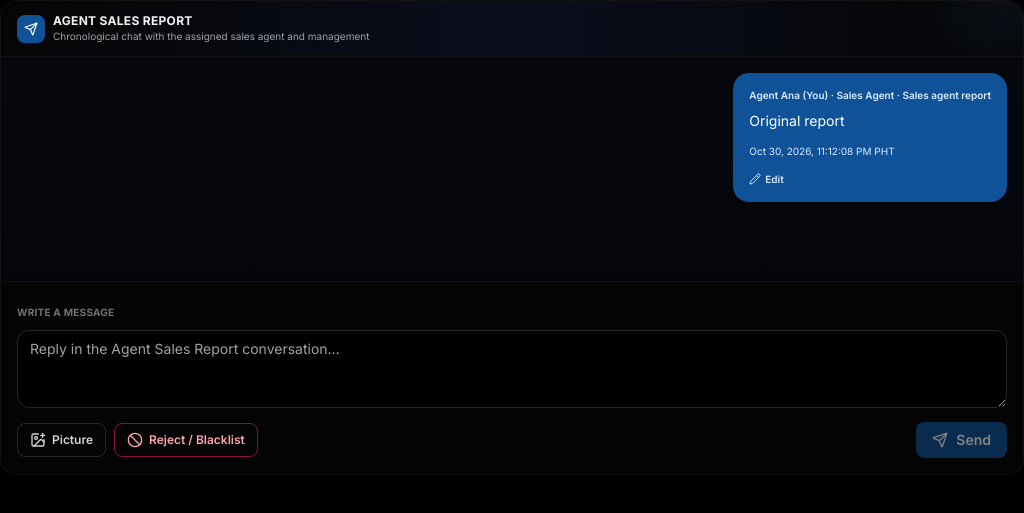
Test: CustomerSalesReportChat › lets a sales agent edit their own message within 24 hours
This screenshot has width=1024, height=513.
expect the text "Original report" is shown: met, box [749, 112, 844, 129]
Click the button with aria-label "Edit message".
click(767, 179)  # box [749, 169, 784, 189]
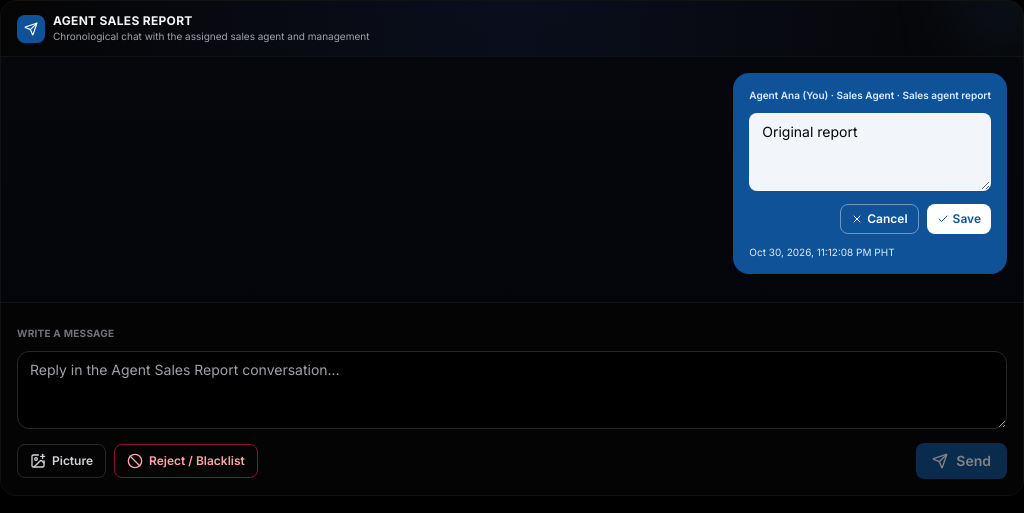
Replace the text in the text box named "Edit message" with "Corrected report" at (870, 152), box [749, 113, 991, 191]
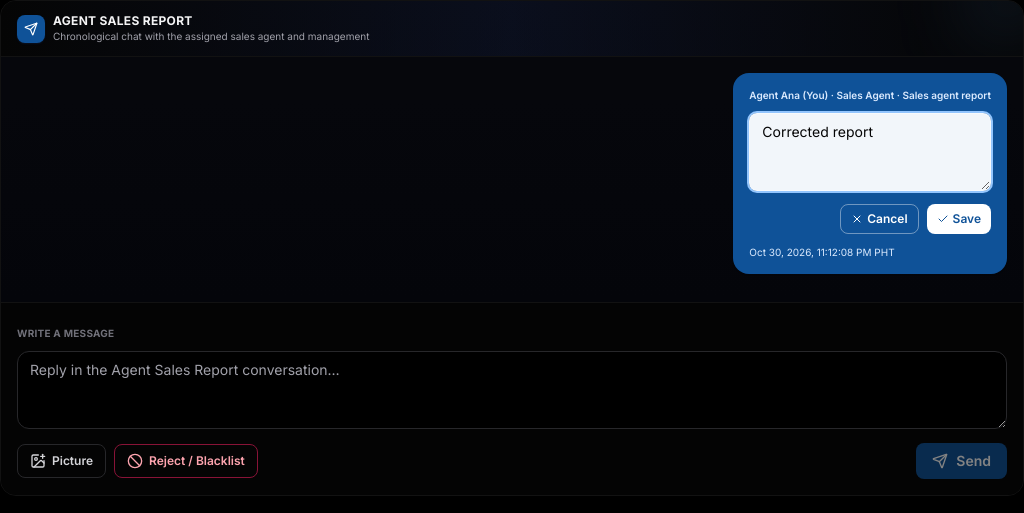
Click the button "Save".
click(959, 219)  # box [927, 204, 991, 234]
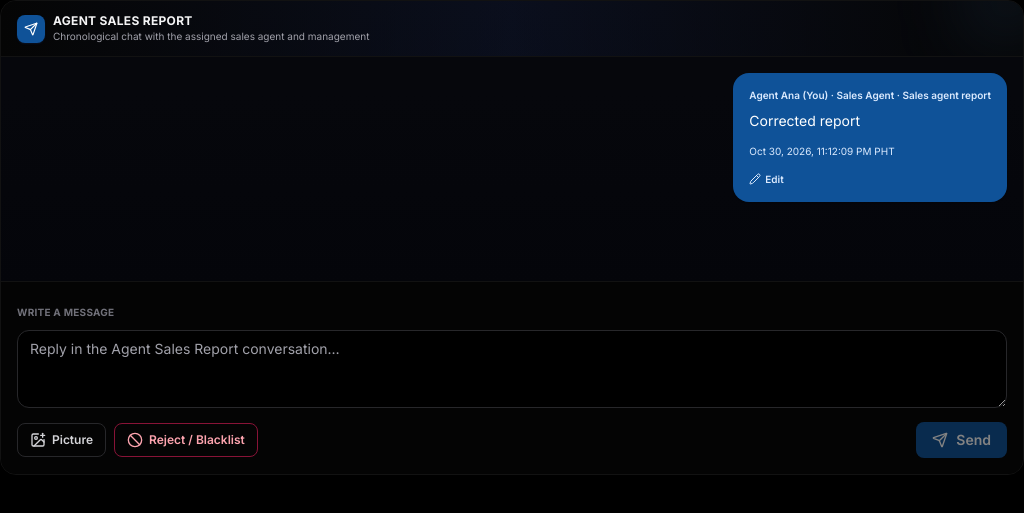
expect the text "Corrected report" is shown: met, box [749, 112, 860, 129]
